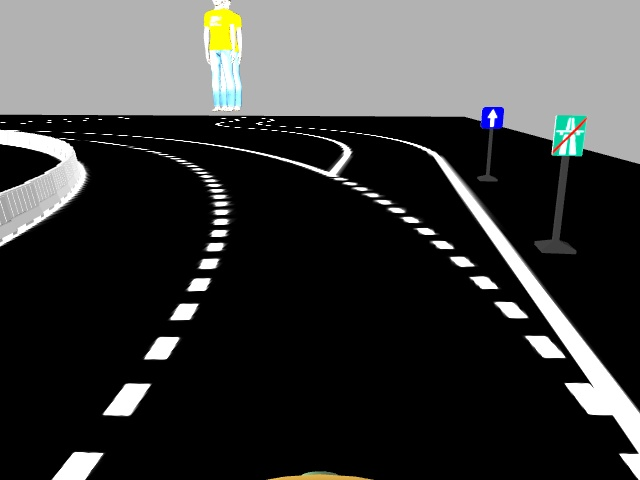HighwayExit: (551, 113, 583, 155)
OneWay: (481, 105, 503, 128)
